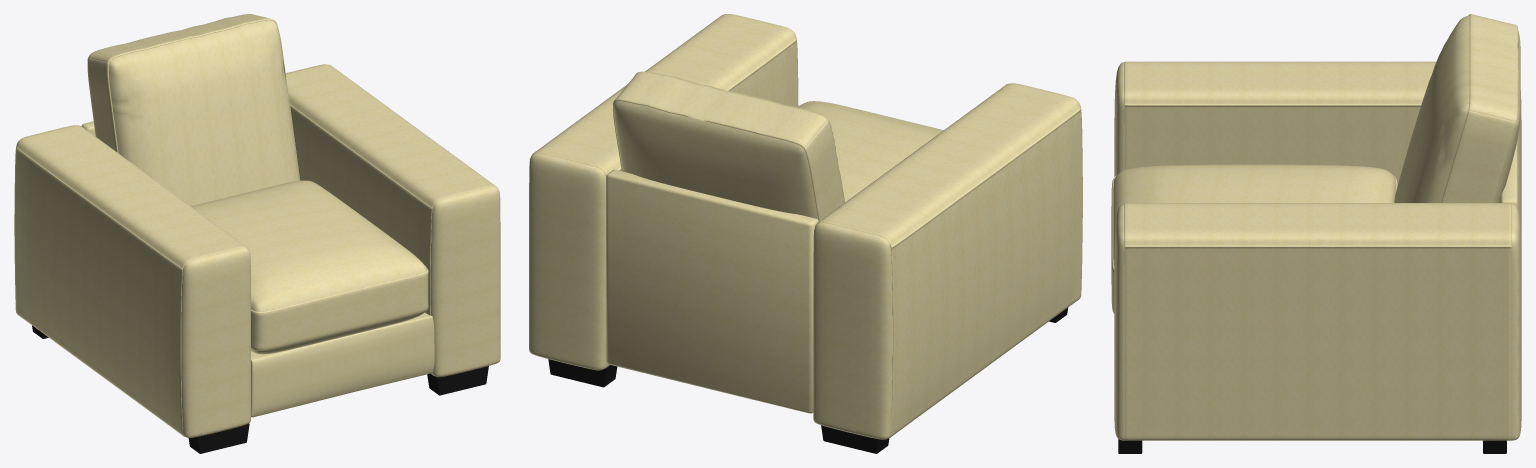
File: Tapicerk_i_krzesla_james_fotel.obj
The picture shows the model from 3 angles, left to right: view 1: azimuth 30°, elevation 25°; view 2: azimuth 150°, elevation 25°; view 3: azimuth 270°, elevation 25°; orthographic projection. The views are drawn at different scales.
Visible parts, largest first — view 1: Box016, Box018, Object015, Object014, Box015, Box03, Box02; view 2: Box016, ChamferBox02, Box018, Object015, Object014, Box04, Box05; view 3: Box018, Box016, Object015, Object014, ChamferBox02.
Part boxes in pixels (x1,y1,x2,y2): Box016: (14, 125, 250, 437); Box018: (286, 64, 500, 376); Object015: (87, 14, 299, 205); Object014: (191, 180, 428, 354); Box015: (251, 312, 434, 417); Box03: (427, 366, 488, 395); Box02: (188, 423, 249, 453); Box016: (813, 83, 1082, 439); ChamferBox02: (606, 169, 818, 413); Box018: (529, 14, 798, 370); Object015: (613, 71, 845, 221); Object014: (797, 101, 943, 201); Box04: (548, 359, 617, 387); Box05: (821, 425, 889, 453); Box018: (1114, 203, 1521, 440); Box016: (1114, 61, 1521, 260); Object015: (1394, 14, 1520, 202); Object014: (1111, 164, 1397, 313); ChamferBox02: (1500, 140, 1517, 207).
Size of the model in its own units: 105 by 85.16 by 100.
